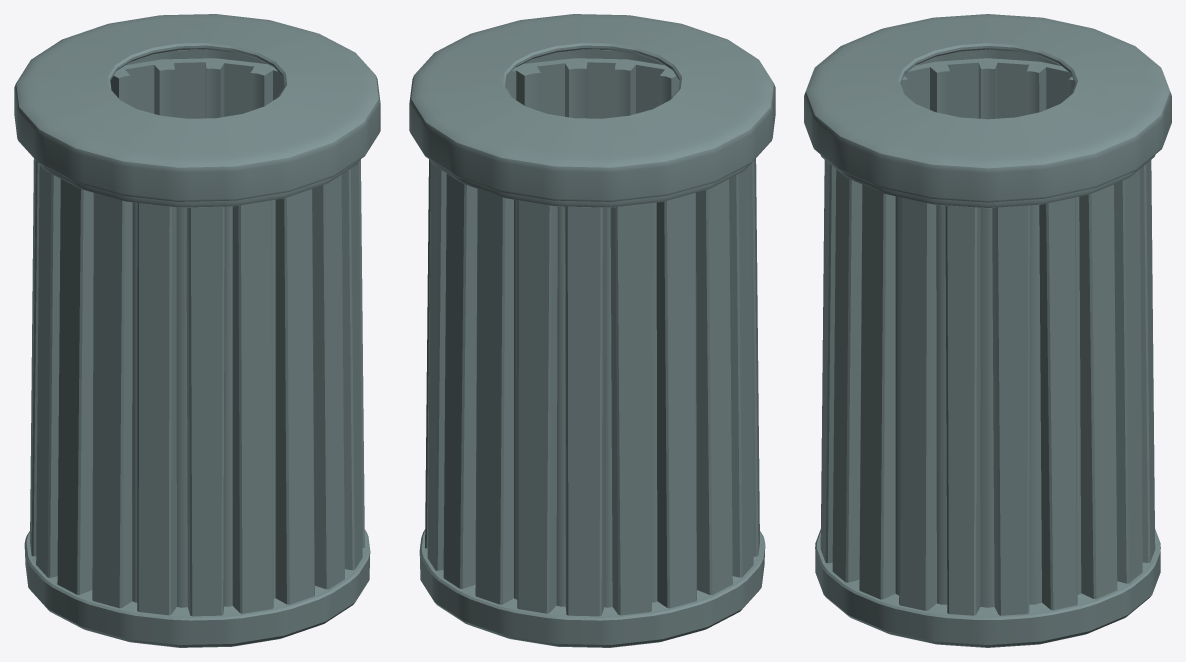
Rendered from trashcan.fbx.
The picture shows the model from 3 angles, left to right: view 1: azimuth 30°, elevation 25°; view 2: azimuth 150°, elevation 25°; view 3: azimuth 270°, elevation 25°; orthographic projection.
Parts seen in each view (by area): view 1: trashcan; view 2: trashcan; view 3: trashcan.
Boxes of the visible parts, <box> form: trashcan: <box>14,14,380,647</box>; trashcan: <box>409,14,775,647</box>; trashcan: <box>804,14,1171,647</box>.
Size of the model in its own units: 6.81 by 10.14 by 6.81.
